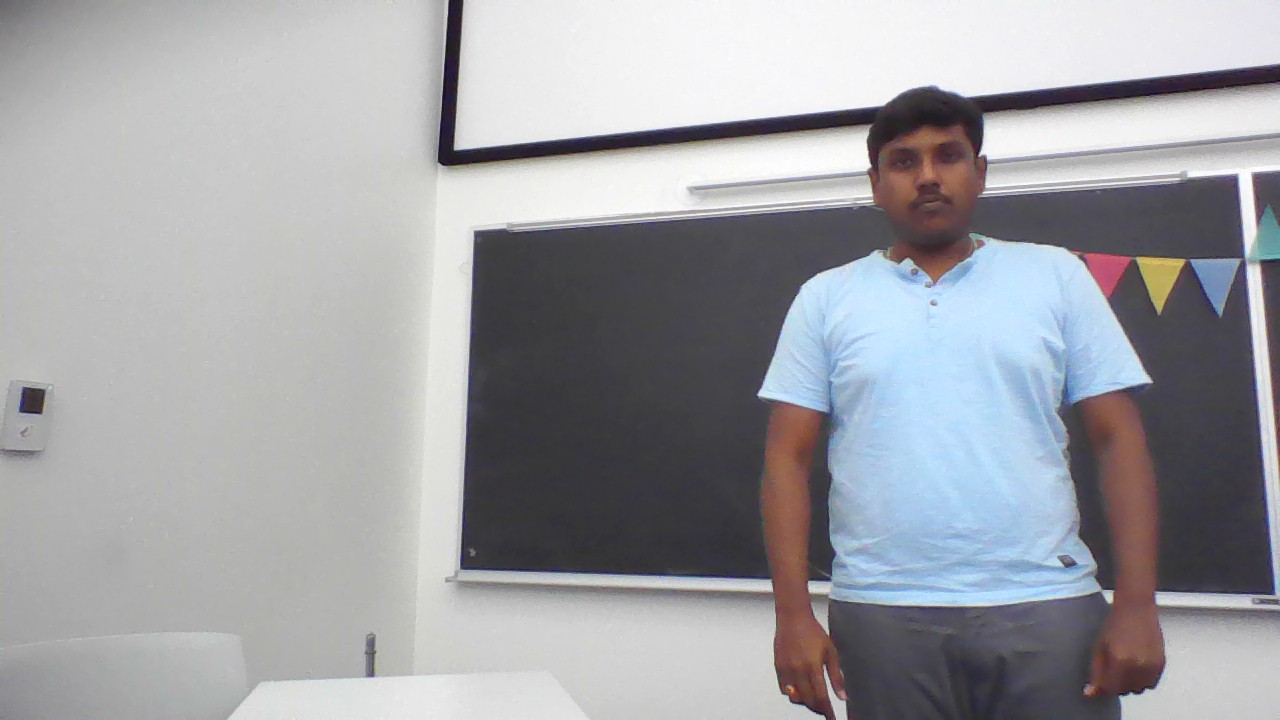height_frame: (749, 85, 1176, 718)
hip_frame: (832, 587, 1109, 612)
shoulder_frame: (800, 276, 1086, 309)
waist_frame: (833, 463, 1075, 498)
